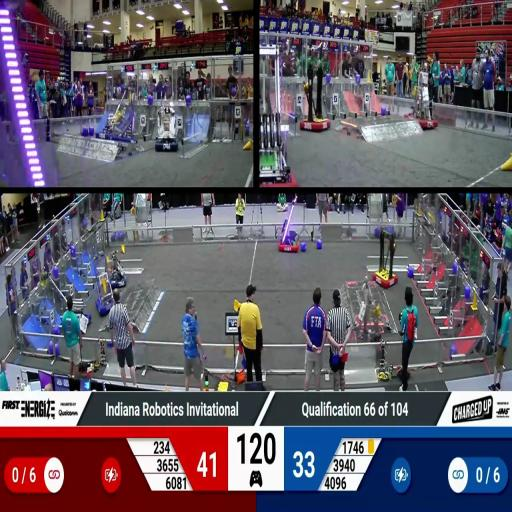robot: (0, 1, 58, 185), (259, 40, 298, 186), (349, 278, 385, 357), (404, 64, 444, 129), (296, 65, 330, 134), (91, 253, 117, 316), (373, 227, 399, 288), (111, 91, 139, 145), (154, 99, 181, 151), (279, 194, 300, 252), (96, 92, 120, 141), (107, 252, 128, 288), (73, 306, 92, 328)
